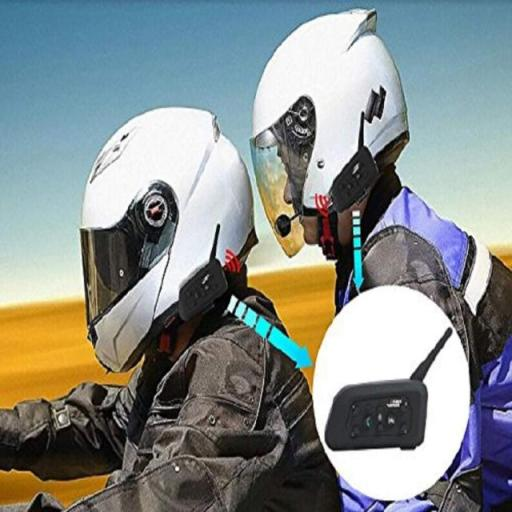Helmet: (80, 108, 255, 371), (252, 10, 407, 255)
